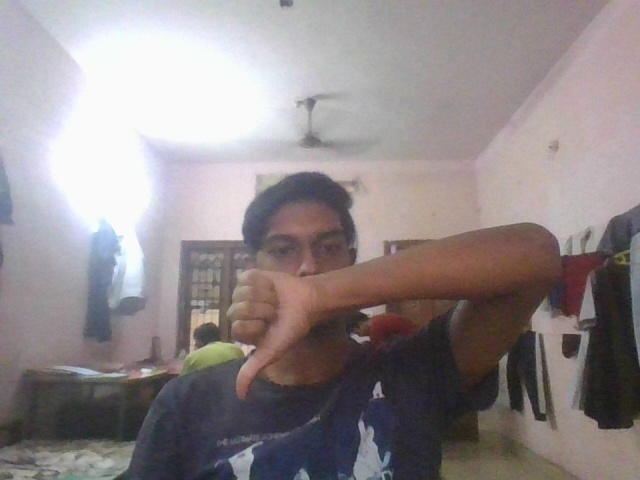thumbsdown: (222, 265, 327, 405)
